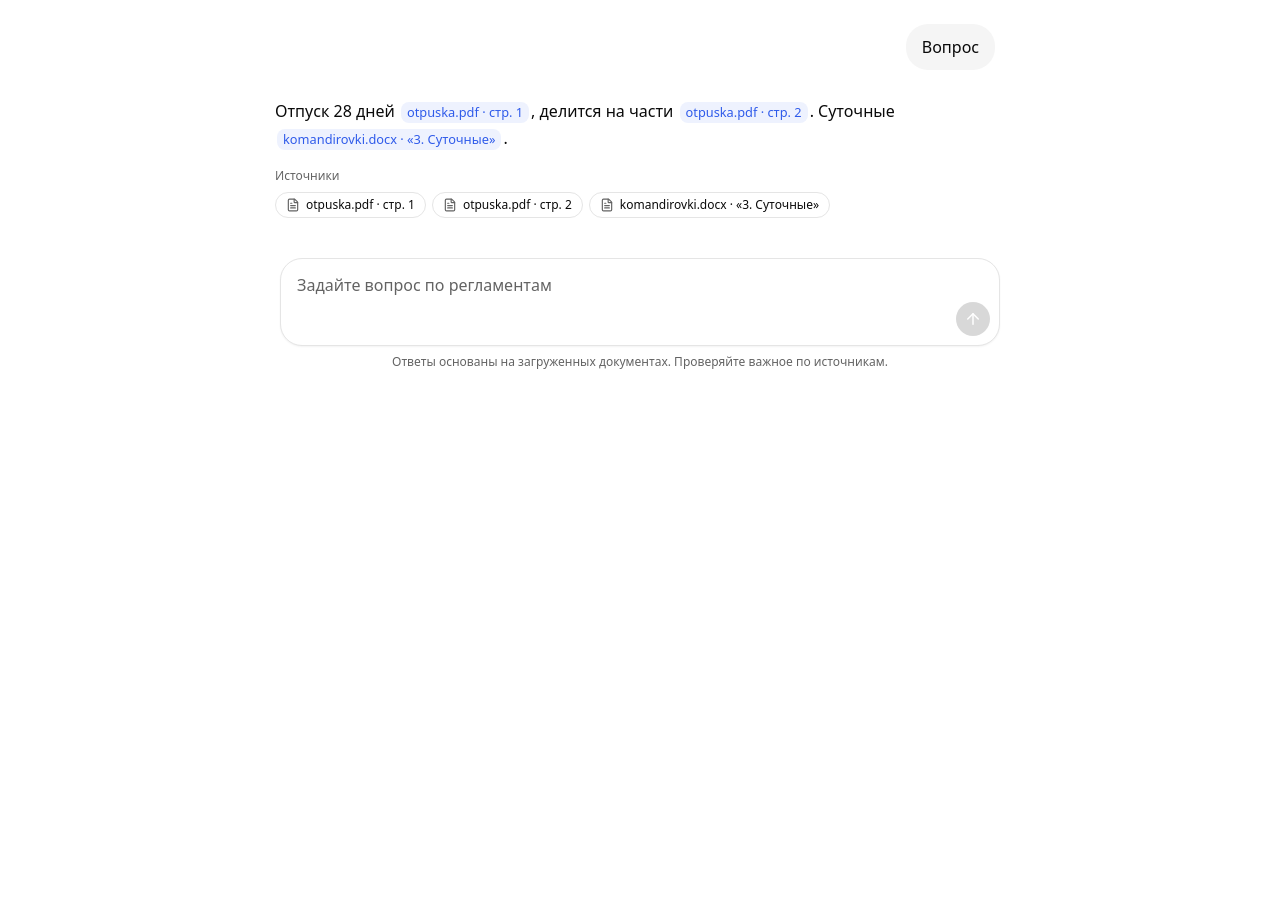
Opening the viewer from a citation › opens a DOCX at the cited section
The image size is (1280, 900).
Click the button "komandirovki.docx · «3. Суточные»" below "Отпуск 28 дней" at (389, 140), box top-left (277, 129), bottom-right (502, 150)
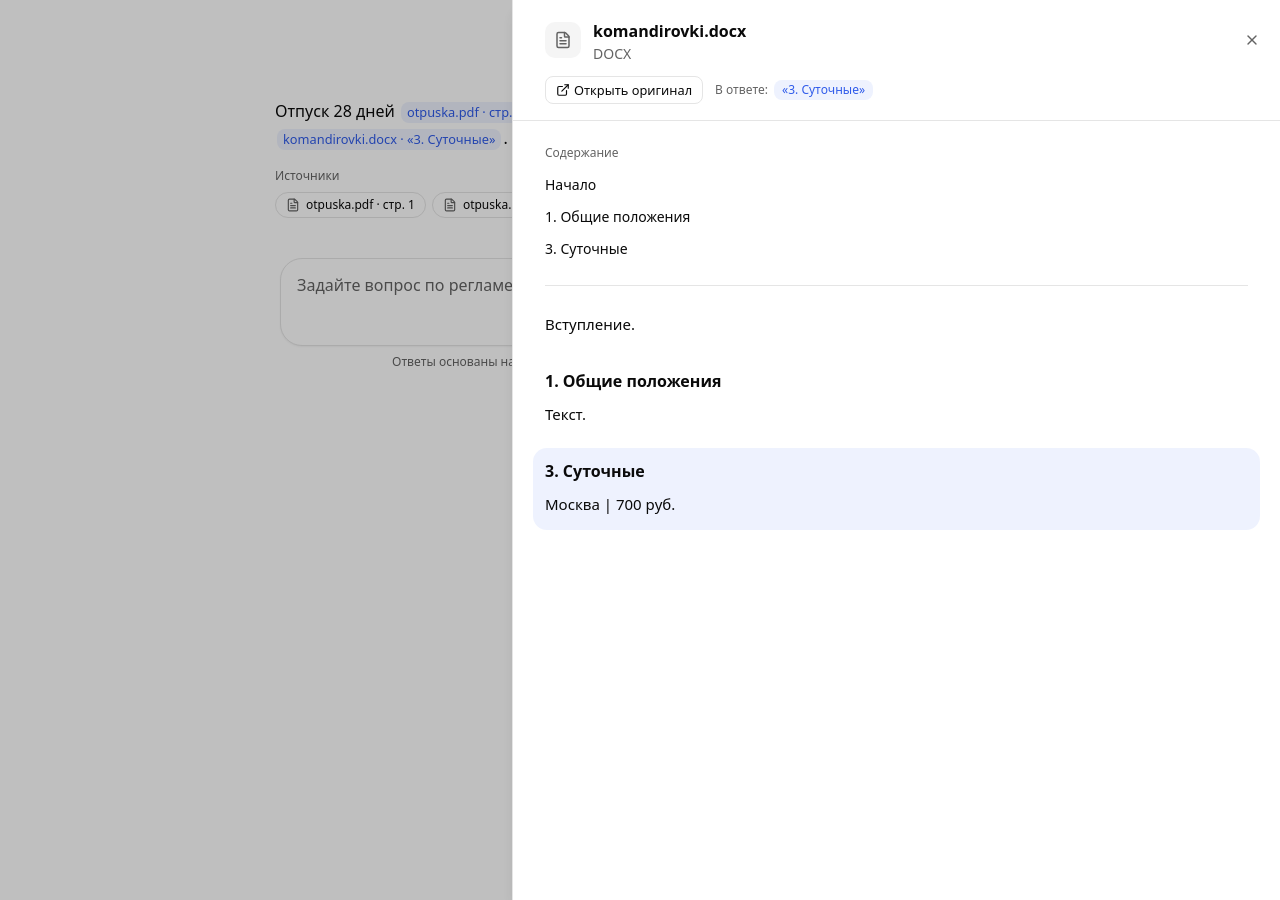
Expected: the element named "Начало" reads "Вступление.", top-left (545, 314), bottom-right (635, 334)
